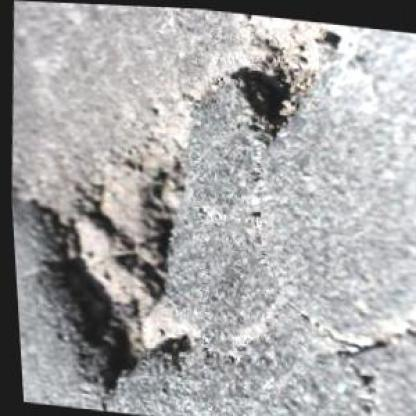pothole: (5, 107, 215, 406)
